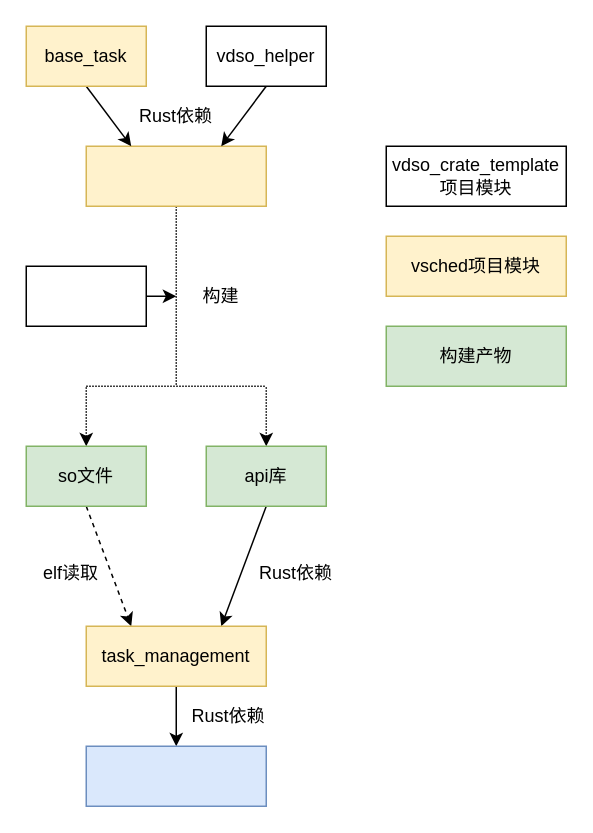
Some shapes in this 593 by 833 pixel diagram are drawn without their labels. Each missing label, with the box of its shape:
build_vdso: (25, 265, 146, 326)
vsched: (85, 145, 266, 206)
任务调度功能的 调用者: (85, 745, 266, 806)
